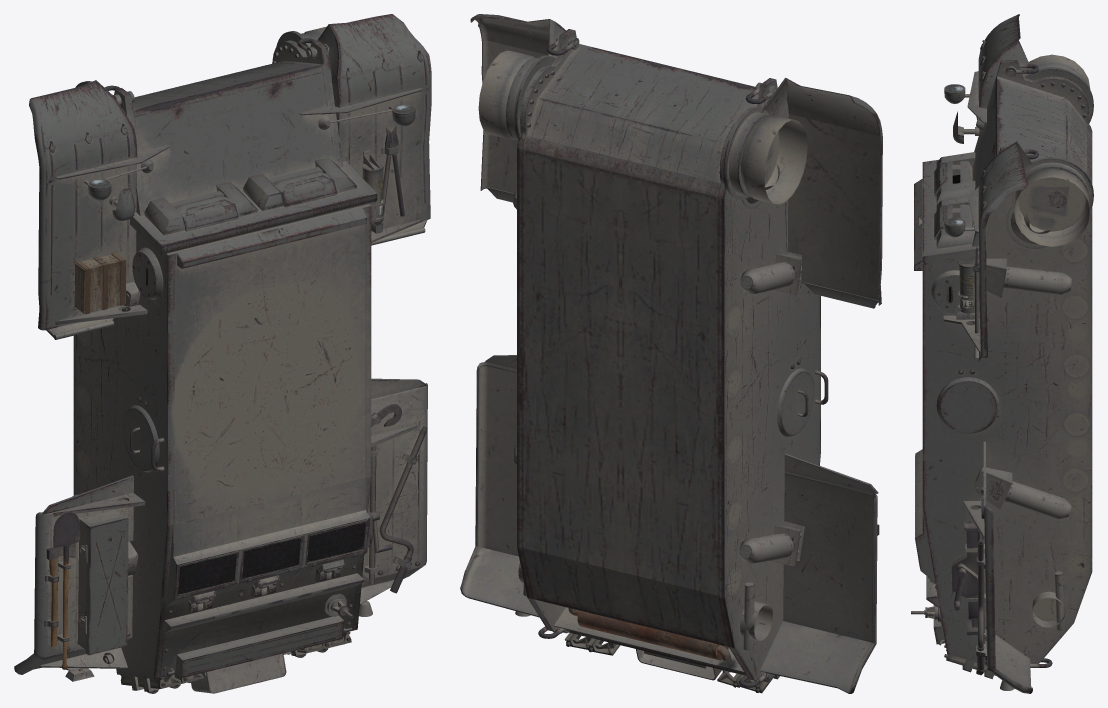
Rendered from Hull.glb.
The picture shows the model from 3 angles, left to right: view 1: azimuth 30°, elevation 25°; view 2: azimuth 150°, elevation 25°; view 3: azimuth 270°, elevation 25°; orthographic projection. The views are drawn at different scales.
Parts seen in each view (by area): view 1: set_0_group_0; view 2: set_0_group_0; view 3: set_0_group_0.
Boxes of the visible parts, box(x1,y1,x2,y2) form: set_0_group_0: box(14, 14, 431, 693); set_0_group_0: box(460, 14, 882, 693); set_0_group_0: box(911, 14, 1093, 693).
Size of the model in its own units: 2.89 by 4.39 by 1.3.
1 material, 1 textured.
